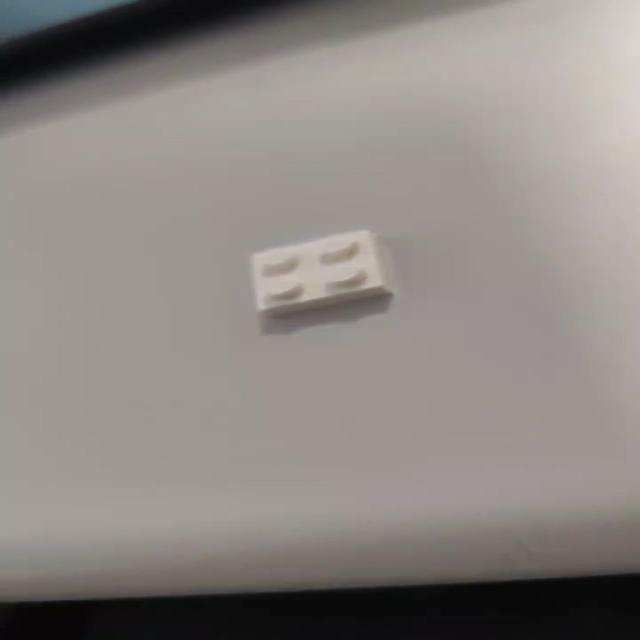C2x2x0: (251, 230, 396, 318)
